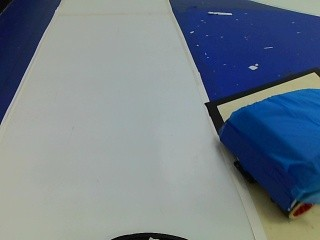car: (218, 80, 320, 225)
